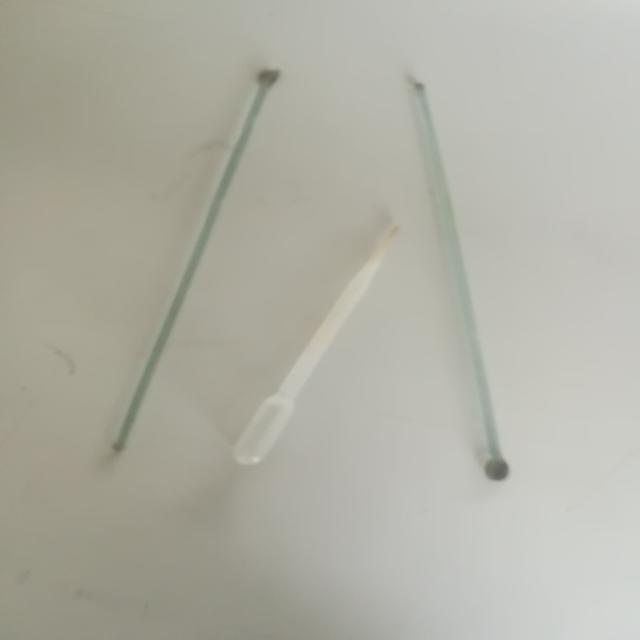Glass_Rod: (36, 57, 308, 467), (396, 59, 571, 518)
Pipette: (213, 213, 396, 491)
